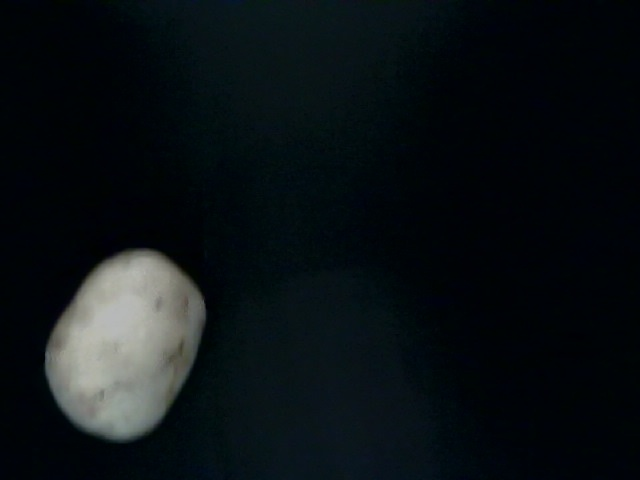QTLJ: (15, 308, 215, 480)
